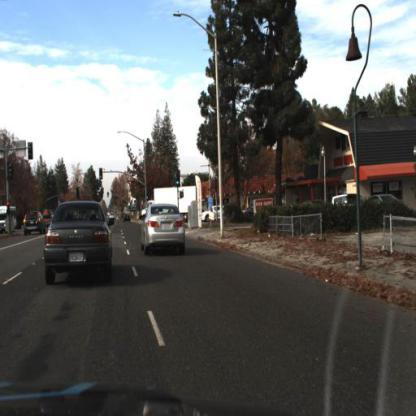car: (37, 194, 115, 295), (137, 200, 191, 265), (141, 202, 189, 258), (324, 182, 369, 219), (198, 200, 232, 227), (22, 209, 47, 240), (19, 210, 46, 238), (120, 208, 135, 226)
trafficLight-Green: (174, 168, 186, 192), (99, 163, 106, 186)
truck: (129, 181, 205, 232)
